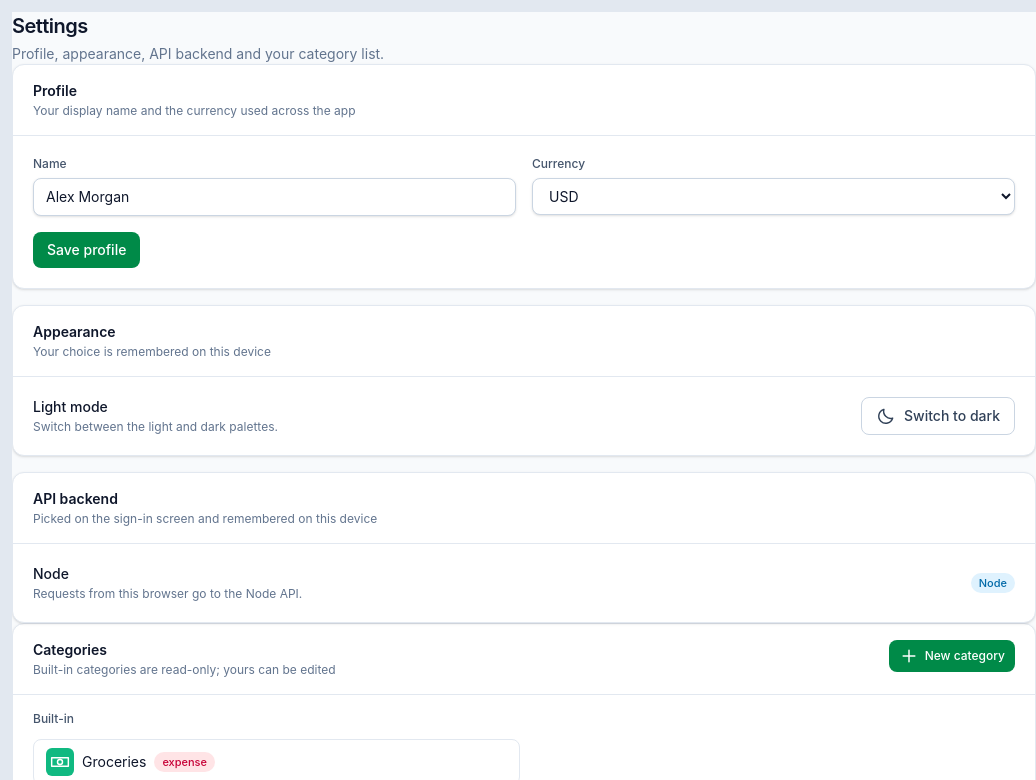
Scenario: SettingsPage › saves the profile
This screenshot has width=1036, height=780.
Step 1. Replace the text in the field labelled "Name" with "Alexandra Morgan" → (274, 197), box [33, 178, 516, 216]
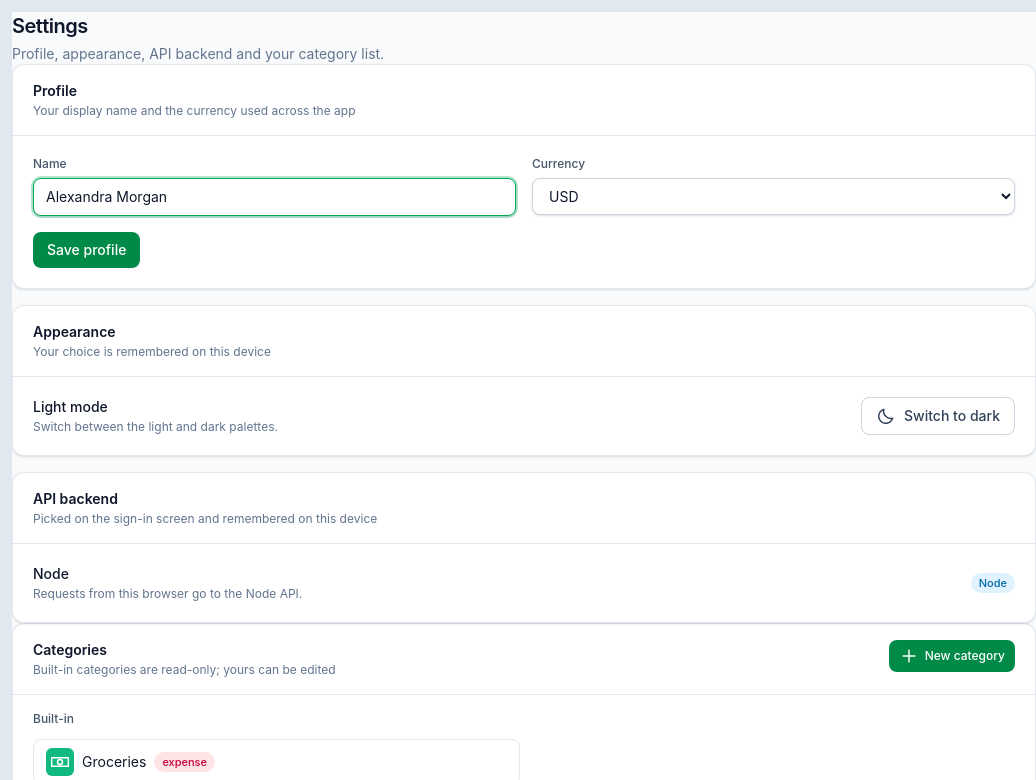
Step 2. Select "EUR" in the dropdown labelled "Currency" → (774, 196), box [532, 178, 1015, 215]
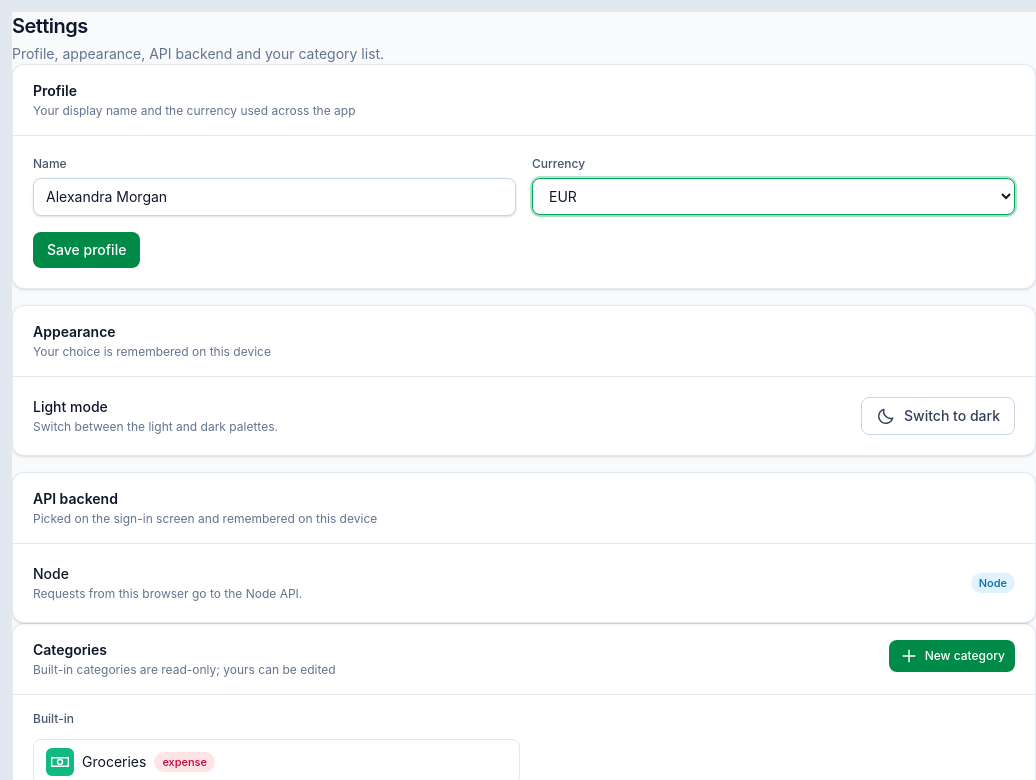
Step 3. Click the button "Save profile" → (87, 250), box [33, 232, 140, 268]
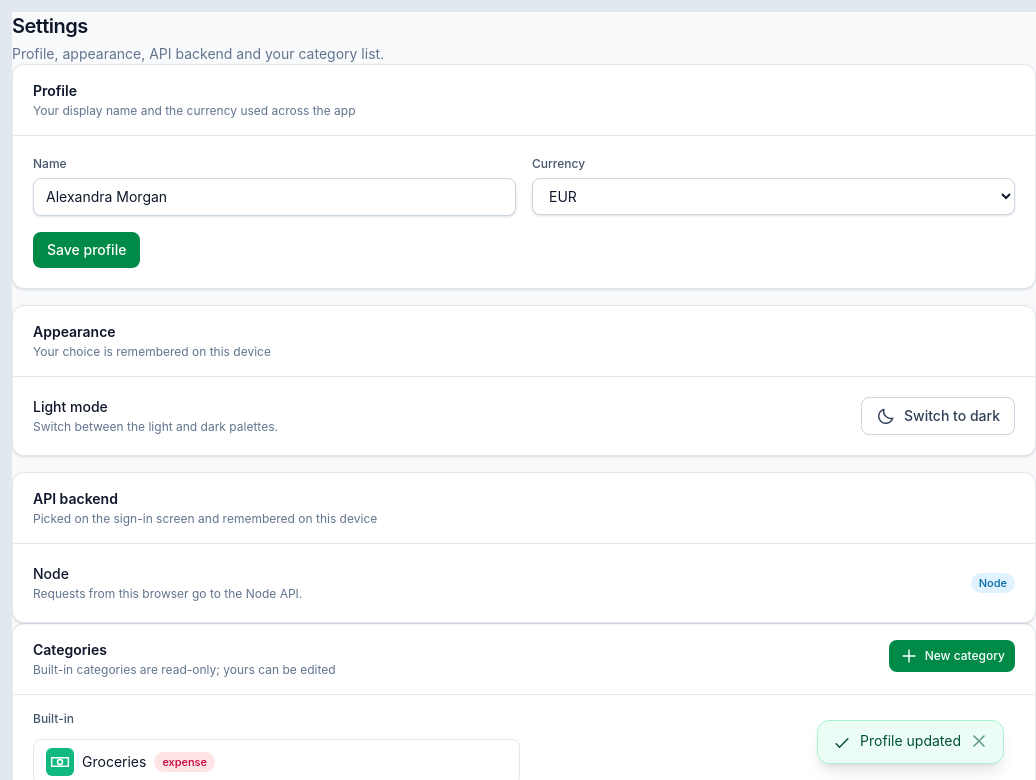
expect the text "Profile updated" is shown: met, box [860, 731, 961, 751]
